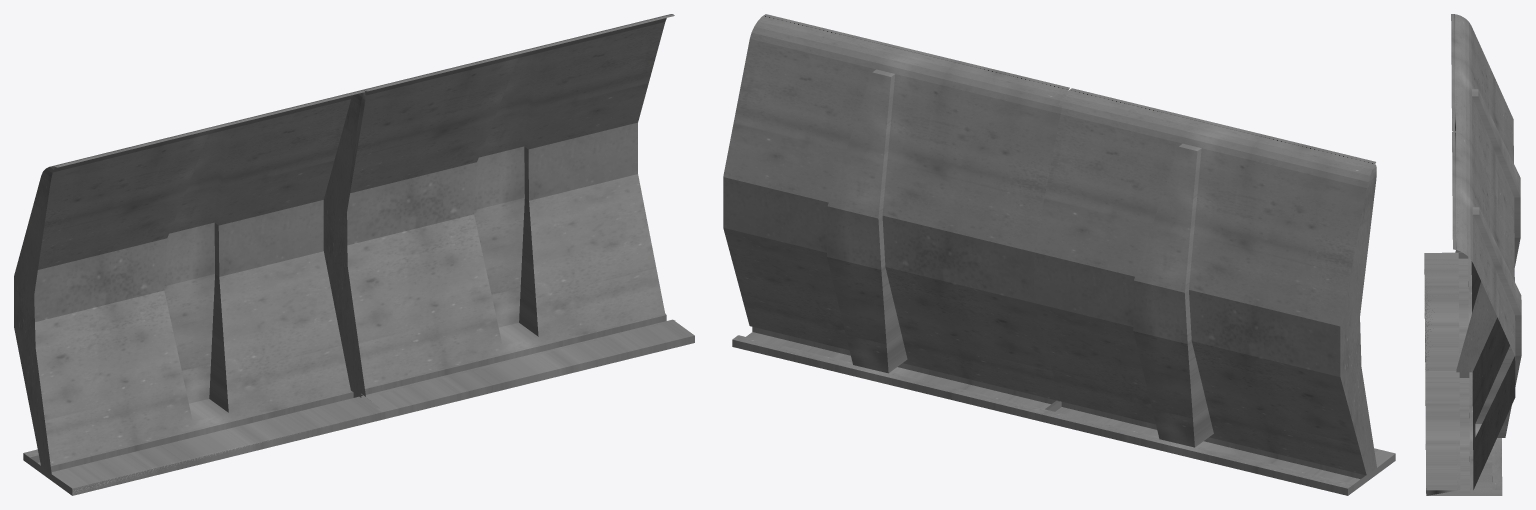
File: vallaMetalUnity2.fbx
3 renders of one model, left to right at view 1: azimuth 30°, elevation 25°; view 2: azimuth 150°, elevation 25°; view 3: azimuth 270°, elevation 25°, orthographic. The views are drawn at different scales.
Visible parts, largest first — view 1: vallaMetal1Kpeque.001; view 2: vallaMetal1Kpeque.001; view 3: vallaMetal1Kpeque.001.
Part boxes in pixels (x1=…): vallaMetal1Kpeque.001: x1=14, y1=14, x2=694, y2=495; vallaMetal1Kpeque.001: x1=723, y1=14, x2=1395, y2=495; vallaMetal1Kpeque.001: x1=1424, y1=14, x2=1521, y2=495.
Bounding box in the file's own units: 123 × 59.46 × 21.33.
1 material, 1 textured.
